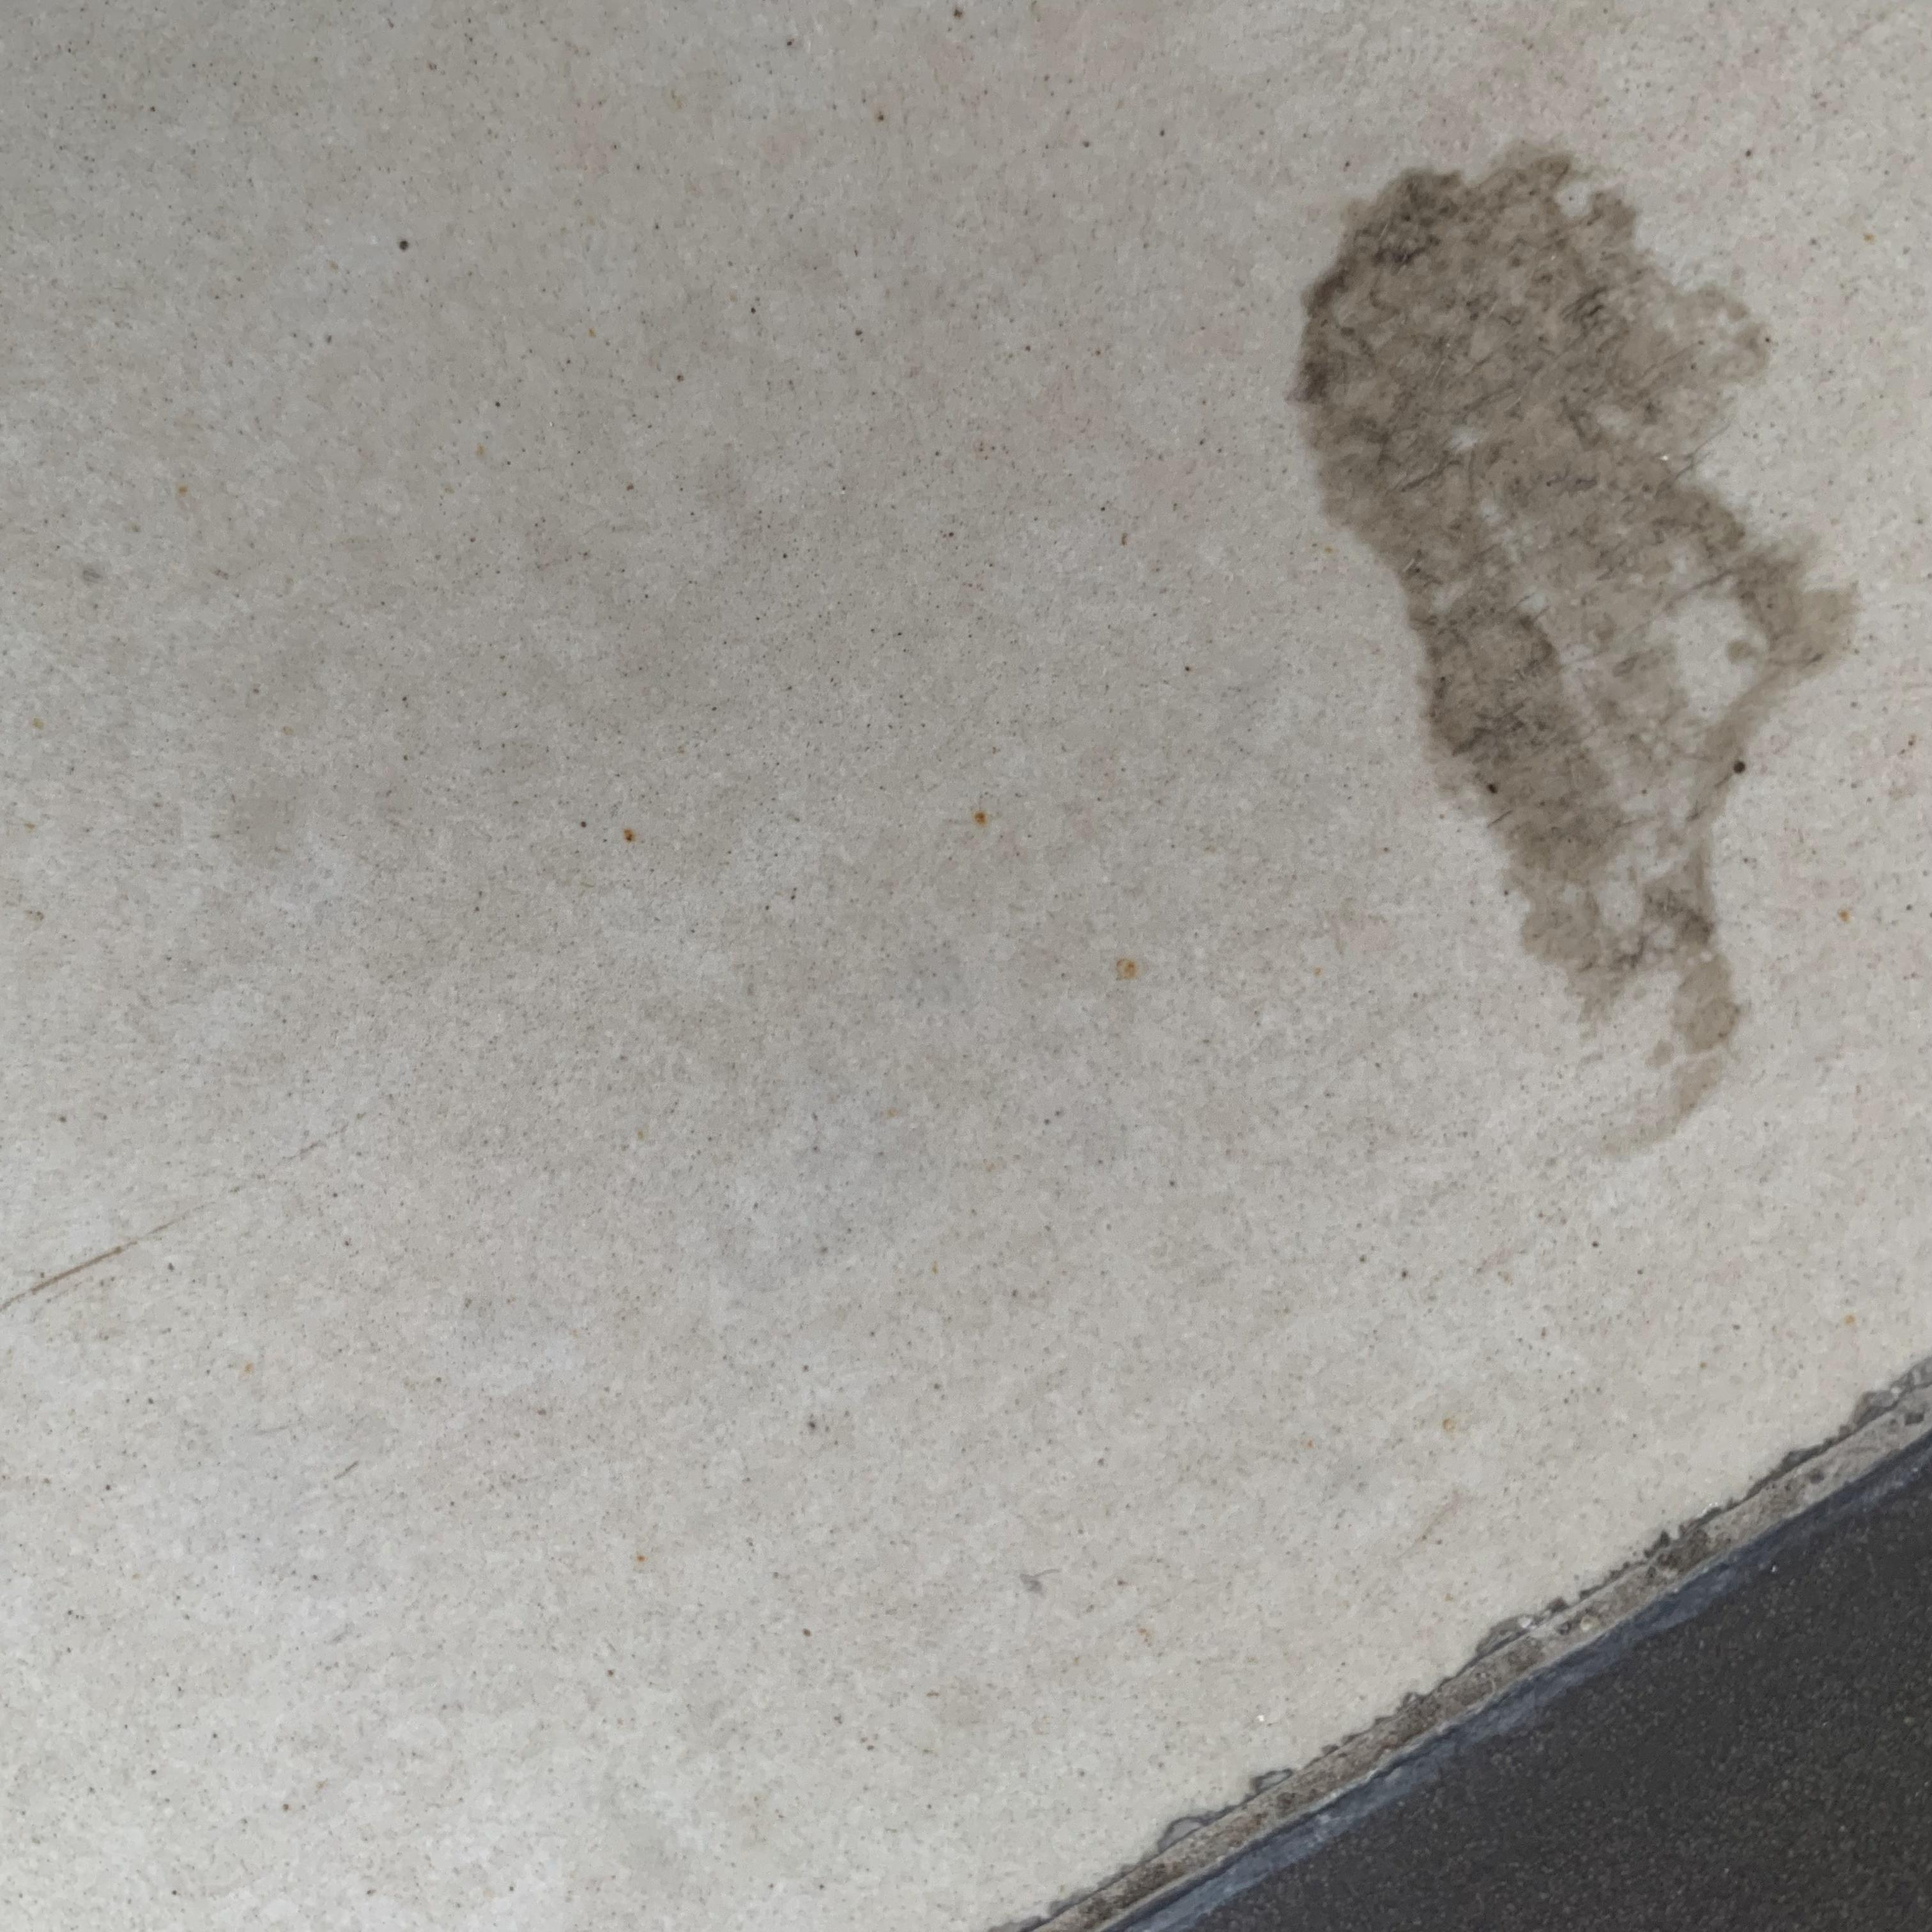grey spot: (1284, 140, 1858, 1155)
